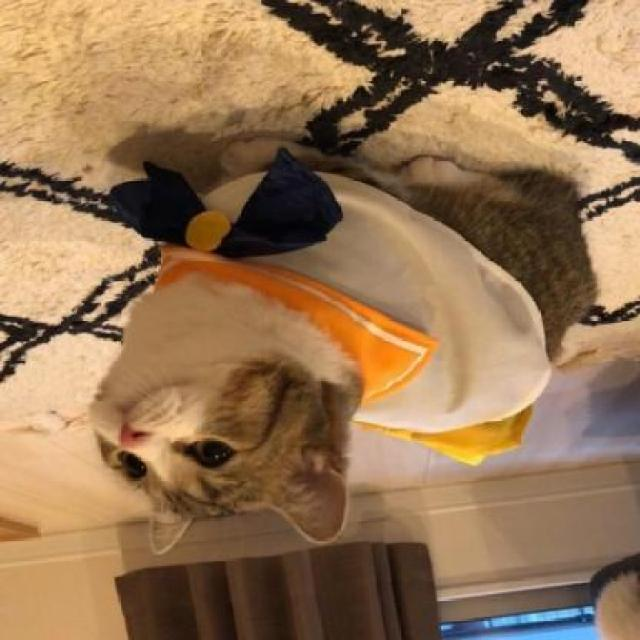cat: (51, 142, 602, 564)
